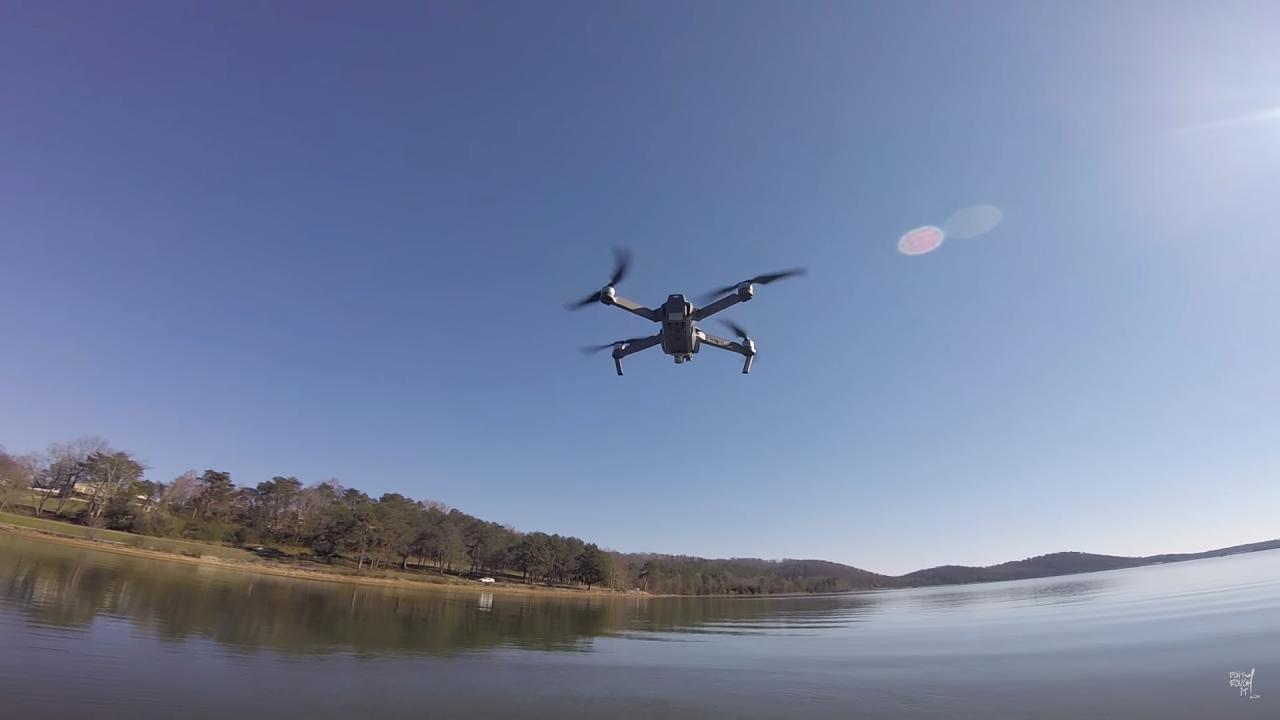Drone: (552, 233, 817, 386)
